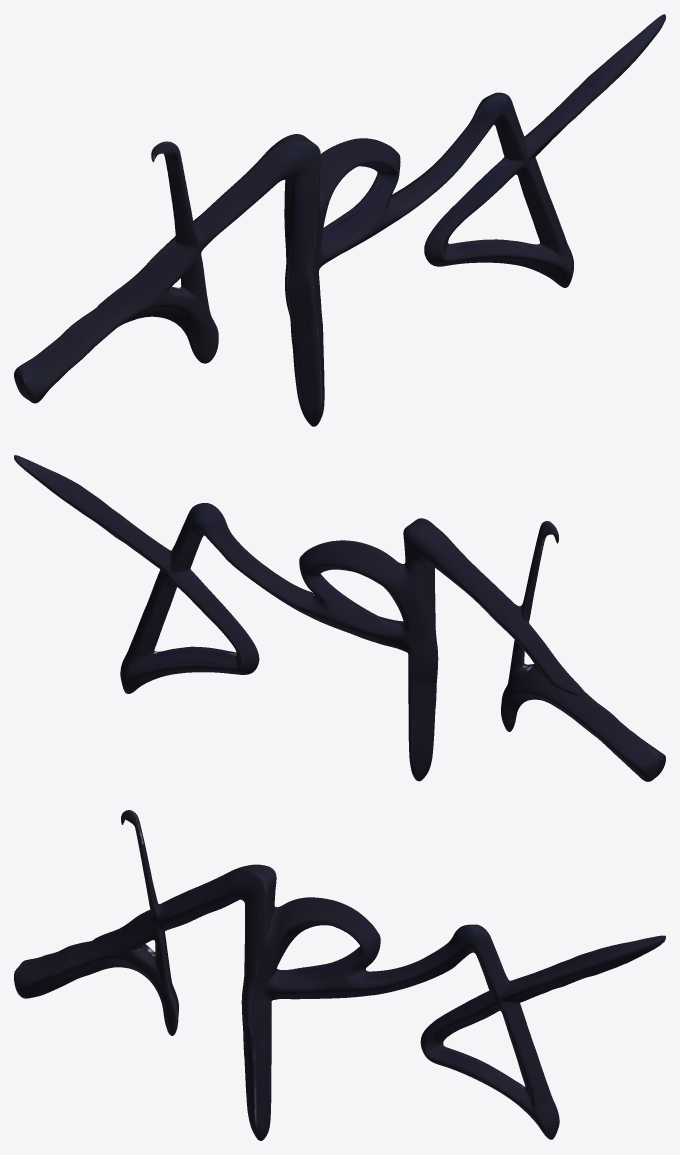
Rendered from tpt.glb.
3 views of the same model, one above another, from view 1: azimuth 30°, elevation 25°; view 2: azimuth 150°, elevation 25°; view 3: azimuth 330°, elevation 25° (orthographic). The views are drawn at different scales.
Parts seen in each view (by area): view 1: model; view 2: model; view 3: model.
Boxes of the visible parts, left/top/right/bottom form: model: left=14, top=14, right=665, bottom=426; model: left=14, top=455, right=665, bottom=781; model: left=14, top=810, right=665, bottom=1140.
Bounding box in the file's own units: 1.9 × 0.8551 × 0.2494.
Materials: 1 (1 with a texture image).
